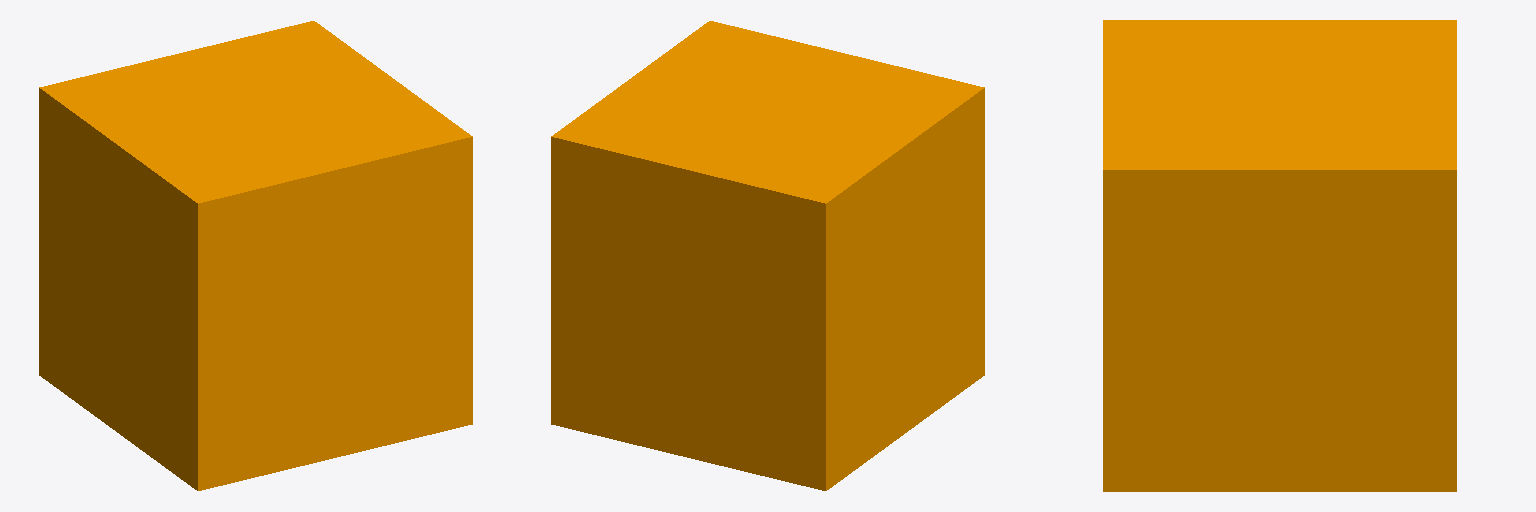
robot.urdf — flag:
<?xml version="0.0" ?>
<robot name="flag">
    <link name="flag">
        <contact>
            <lateral_friction value="1"/>
        </contact>

        <inertial>
            <origin xyz="0 0 0" rpy="0 0 0"/>
            <mass value="0.0"/>
            <inertia ixx="0"  ixy="0"  ixz="0" iyy="0" iyz="0" izz="0" />
        </inertial>

        <visual>
            <origin xyz="0 0 0" rpy="0 0 0" />
            <geometry>
                <box size="0.1 0.1 0.1" />
            </geometry>
            <material name="Cyan">
                <color rgba="1.0 0.65 0.0 1.0"/>
            </material>
        </visual>

    </link>
</robot>

--- Render facts (derived) ---
3 views of the same robot in one strip: view 1: azimuth 30°, elevation 25°; view 2: azimuth 150°, elevation 25°; view 3: azimuth 270°, elevation 25° (orthographic).
Robot: flag — 1 links, 0 joints (none); root link flag; default pose: all joints at 0.
Visible links, largest first — view 1: flag; view 2: flag; view 3: flag.
Link boxes in pixels (left/top/right/bottom): flag: left=39, top=21, right=472, bottom=490; flag: left=551, top=21, right=984, bottom=490; flag: left=1103, top=20, right=1456, bottom=491.
Bounding box of the posed robot: 0.1 × 0.1 × 0.1 m (x, y, z).
Geometry: primitives only (box / cylinder / sphere), no mesh files.